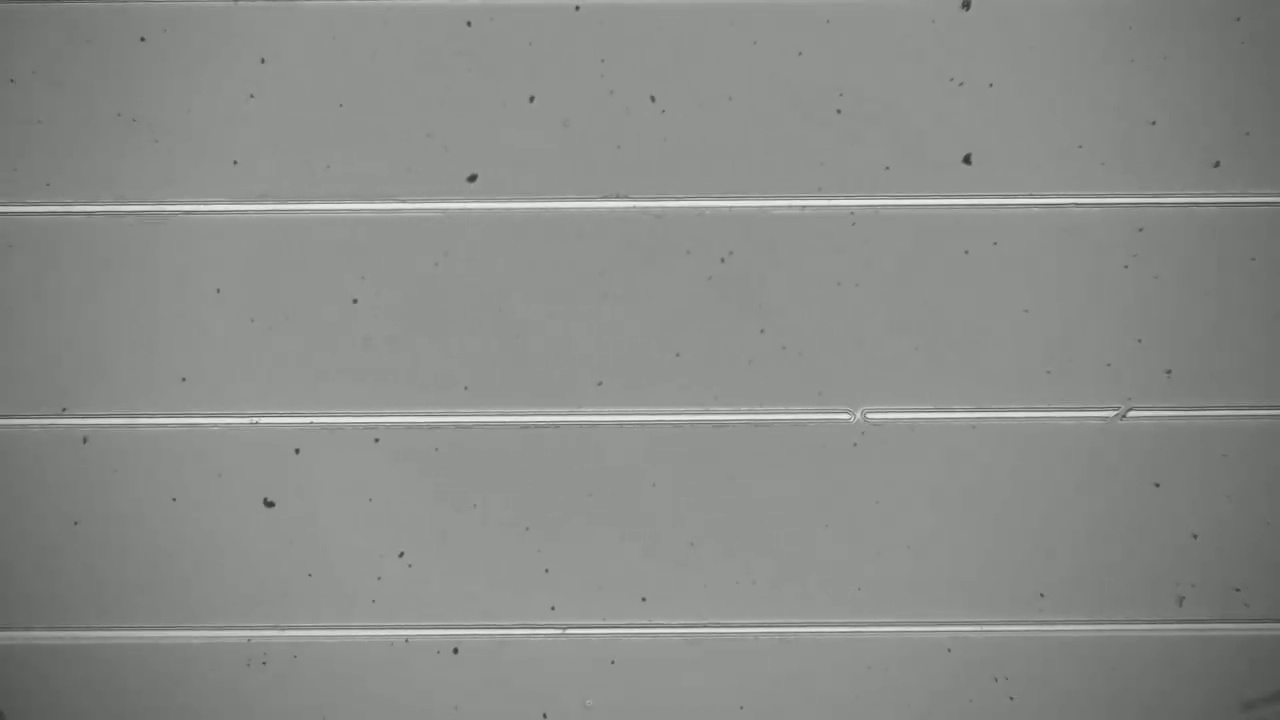open: (1101, 392, 1140, 433), (834, 397, 874, 434)
